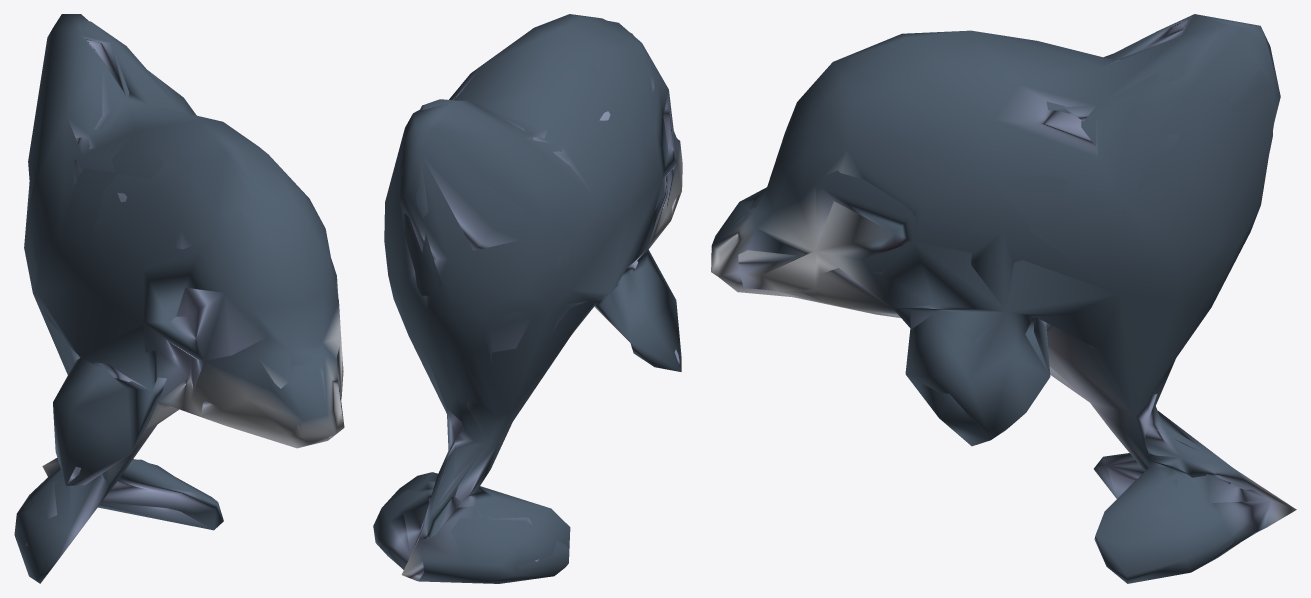
Rendered from gen3d-bottlenose-dolphin-lod1.glb.
3 renders of one model, left to right at view 1: azimuth 30°, elevation 25°; view 2: azimuth 150°, elevation 25°; view 3: azimuth 270°, elevation 25°, orthographic. The views are drawn at different scales.
Visible parts, largest first — view 1: part_0; view 2: part_0; view 3: part_0.
Boxes of the visible parts, <box> form: part_0: <box>14,14,344,583</box>; part_0: <box>373,14,682,583</box>; part_0: <box>711,14,1296,583</box>.
Size of the model in its own units: 0.5539 by 0.9816 by 0.9903.
